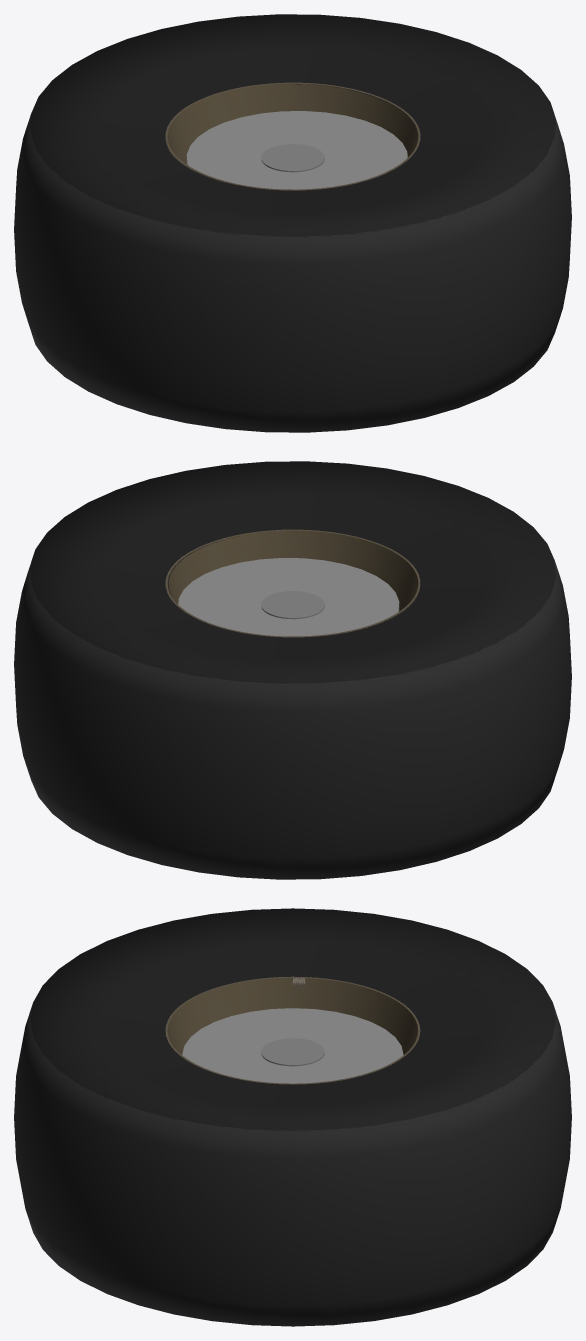
File: rr_wheel.gltf
The picture shows the model from 3 angles, top to bottom: view 1: azimuth 30°, elevation 25°; view 2: azimuth 150°, elevation 25°; view 3: azimuth 270°, elevation 25°; orthographic projection.
Visible parts, largest first — view 1: rr_wheel; view 2: rr_wheel; view 3: rr_wheel.
Part boxes in pixels (<box>): rr_wheel: <box>14,14,571,432</box>; rr_wheel: <box>14,461,571,879</box>; rr_wheel: <box>14,908,571,1326</box>.
Size of the model in its own units: 0.7222 by 0.2872 by 0.7222.
Materials: 2 (2 with a texture image).
